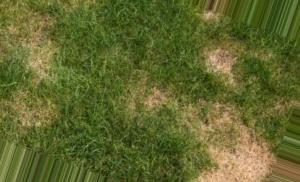patch: (17, 8, 60, 67), (206, 129, 253, 179), (197, 43, 242, 77), (22, 91, 57, 127), (137, 81, 168, 107), (198, 12, 214, 22)
